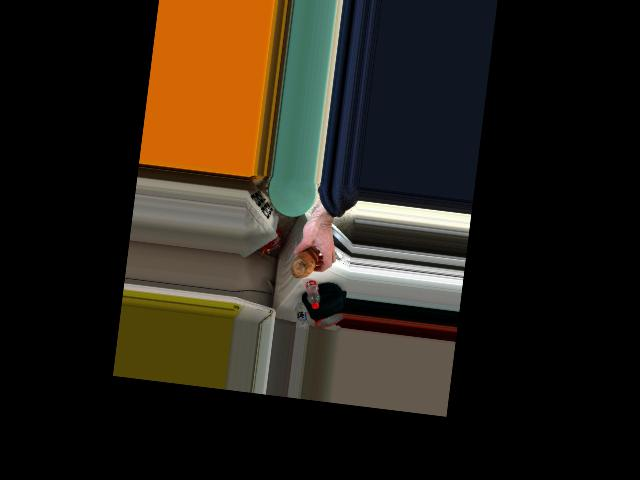sweet_potato: (289, 243, 322, 280)
